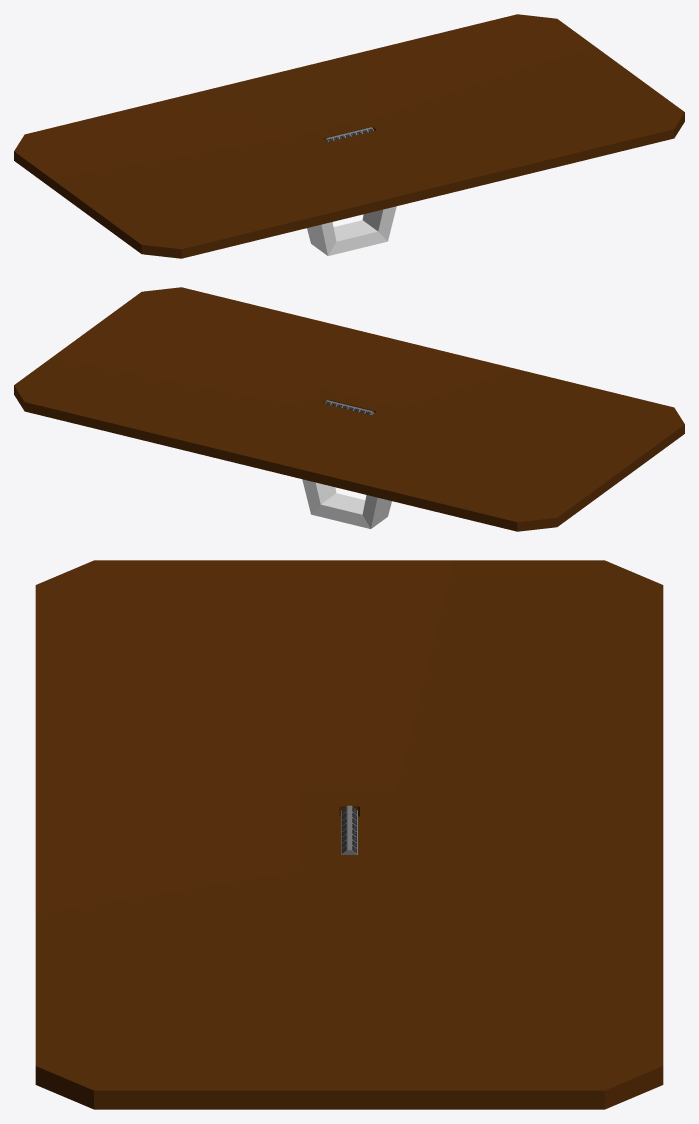
Rendered from meetingtable.fbx.
The picture shows the model from 3 angles, top to bottom: view 1: azimuth 30°, elevation 25°; view 2: azimuth 150°, elevation 25°; view 3: azimuth 270°, elevation 25°; orthographic projection. The views are drawn at different scales.
Parts seen in each view (by area): view 1: Cube; view 2: Cube; view 3: Cube, ChargePort.
Part boxes in pixels (<box>): Cube: <box>14,14,684,258</box>; Cube: <box>14,287,684,531</box>; Cube: <box>35,560,663,1109</box>; ChargePort: <box>341,805,357,854</box>.
Size of the model in its own units: 400 by 78.03 by 200.
